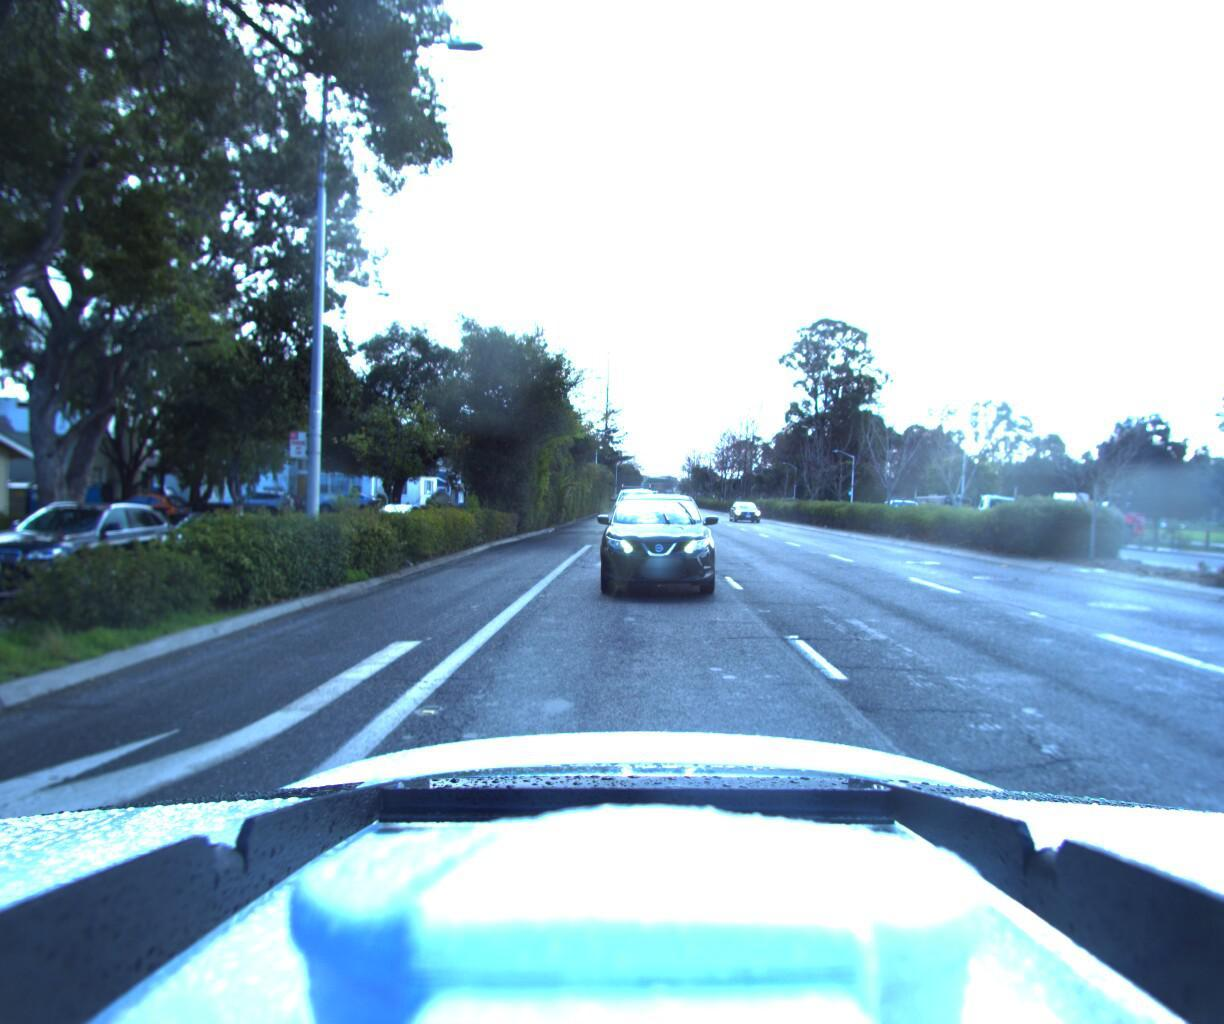car: (593, 497, 730, 616), (136, 513, 277, 576), (82, 497, 194, 545), (209, 495, 297, 527), (857, 505, 925, 541), (607, 489, 659, 535), (313, 499, 384, 525), (730, 506, 767, 530)
truck: (967, 484, 1114, 548)
